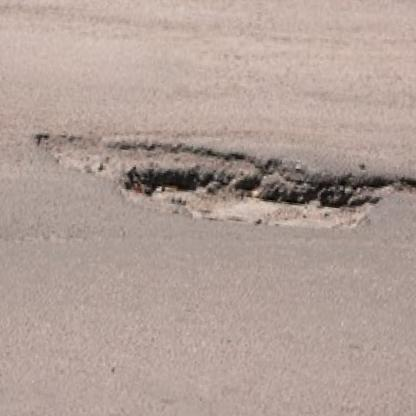pothole: (37, 128, 416, 247)
